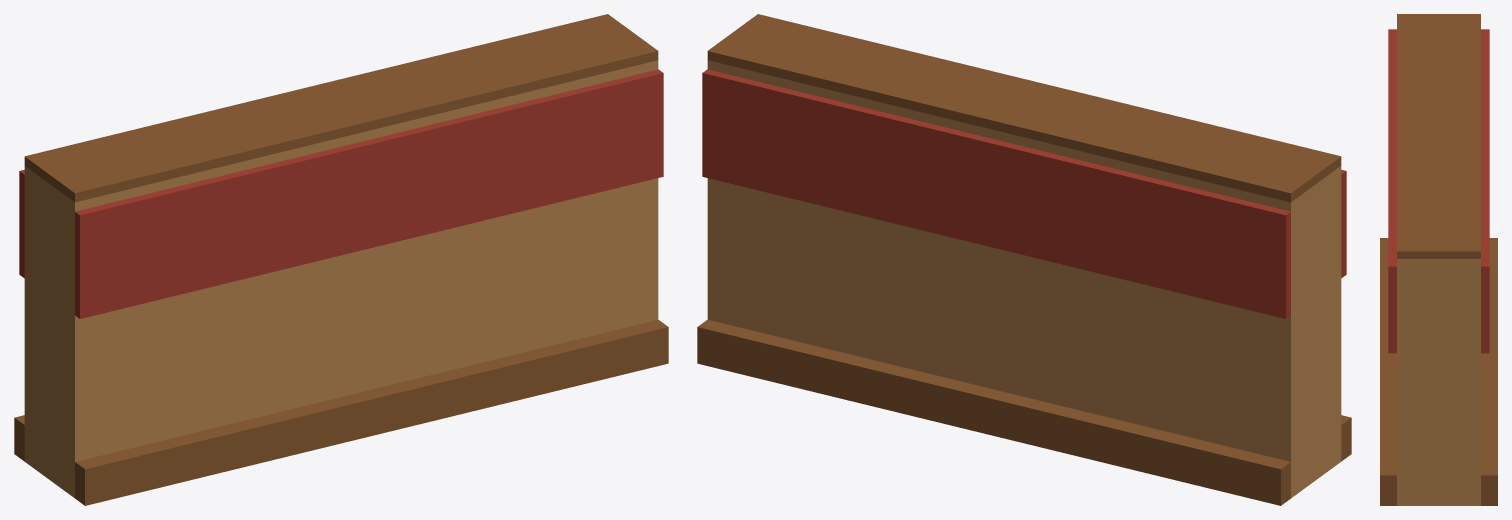
File: partition.glb
3 renders of one model, left to right at view 1: azimuth 30°, elevation 25°; view 2: azimuth 150°, elevation 25°; view 3: azimuth 270°, elevation 25°, orthographic. The views are drawn at different scales.
Parts seen in each view (by area): view 1: partition; view 2: partition; view 3: partition.
Part boxes in pixels (bbox=[...]): partition: bbox=[14, 14, 668, 505]; partition: bbox=[697, 14, 1351, 505]; partition: bbox=[1380, 14, 1497, 505].
Size of the model in its own units: 1 by 0.5 by 0.21.
Materials: 1 (1 with a texture image).
